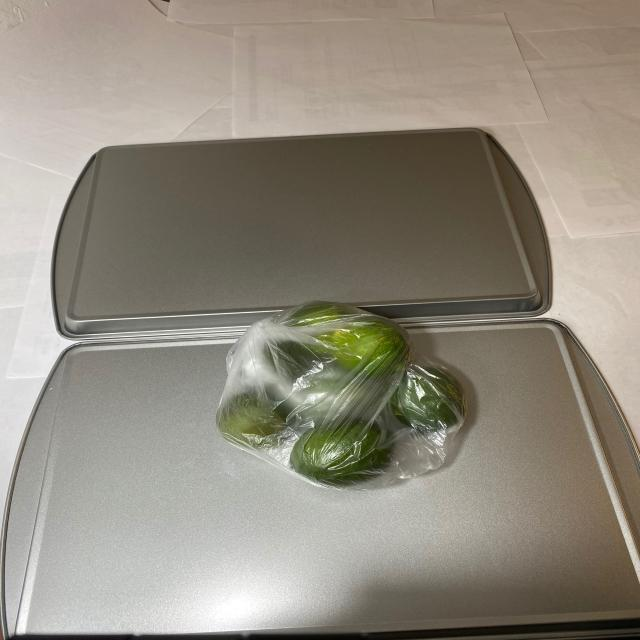lemon: (220, 300, 470, 488)
